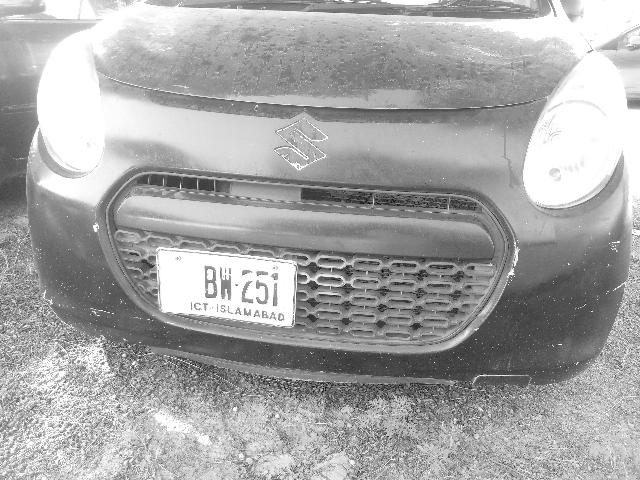Number: (200, 267, 283, 311)
